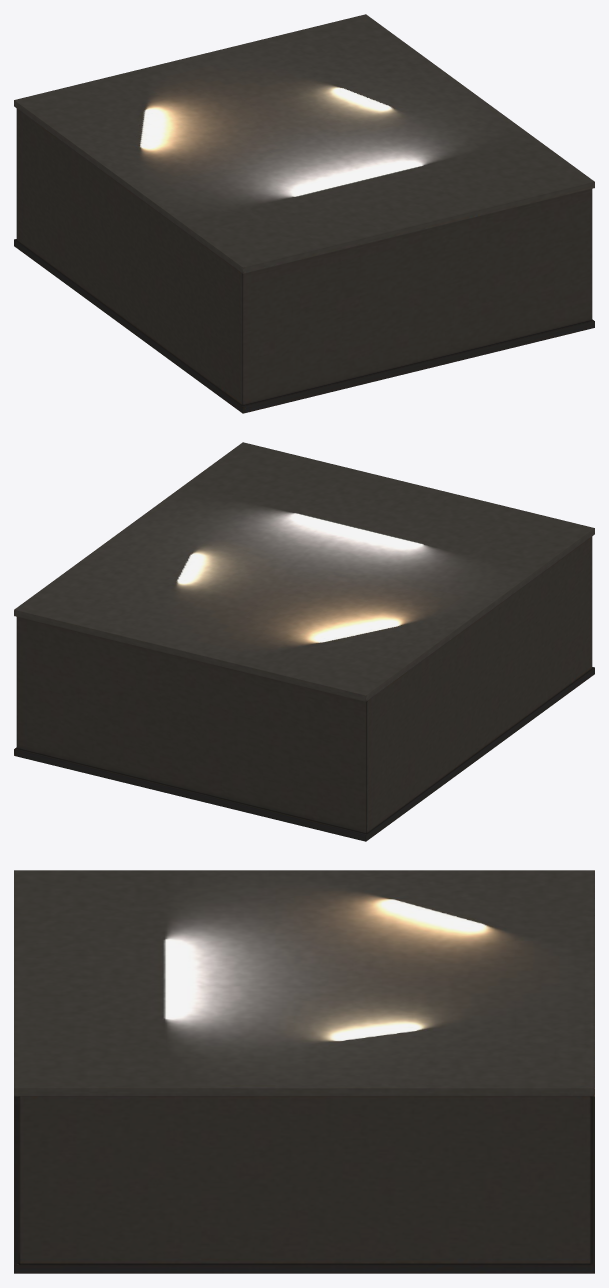
Rendered from room-orbital.glb.
3 views of the same model, one above another, from view 1: azimuth 30°, elevation 25°; view 2: azimuth 150°, elevation 25°; view 3: azimuth 270°, elevation 25° (orthographic). The views are drawn at different scales.
Visible parts, largest first — view 1: orbital; view 2: orbital; view 3: orbital.
Part boxes in pixels (left/top/right/bottom): orbital: left=14, top=14, right=594, bottom=413; orbital: left=14, top=442, right=594, bottom=841; orbital: left=14, top=870, right=594, bottom=1273.
Size of the model in its own units: 16.6 by 6.58 by 18.7.
1 material, 1 textured.
